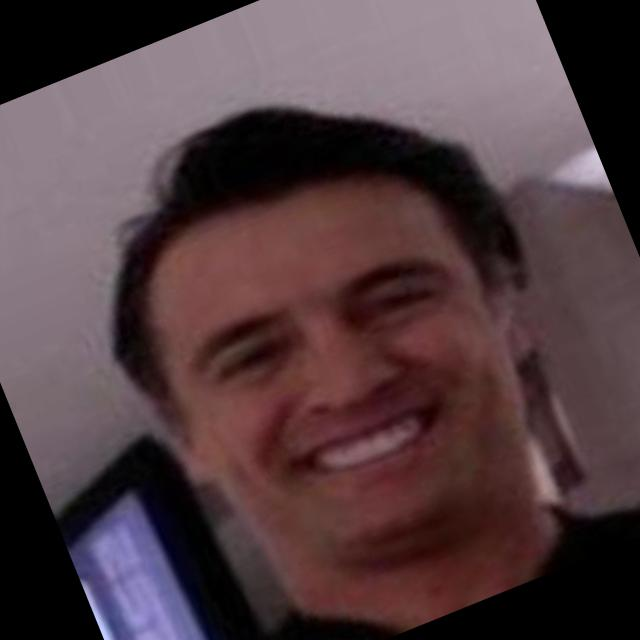bareface: (45, 43, 618, 623)
